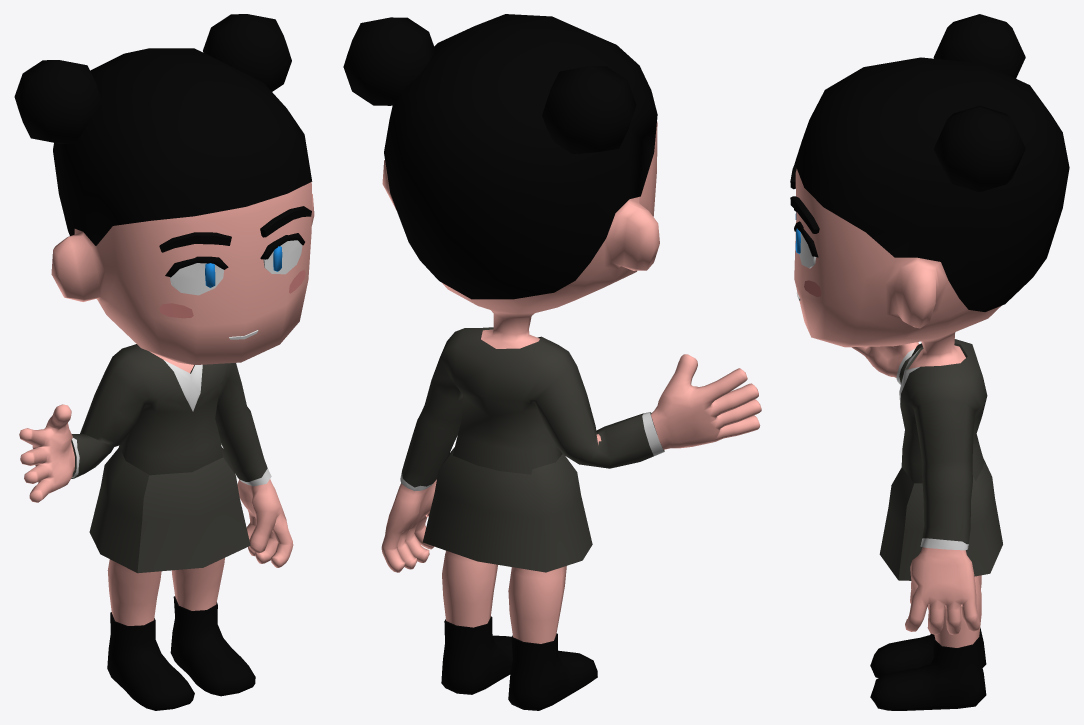
Rendered from Personaje_juzgado.fbx.
3 views of the same model, side by side, from view 1: azimuth 30°, elevation 25°; view 2: azimuth 150°, elevation 25°; view 3: azimuth 270°, elevation 25° (orthographic). The views are drawn at different scales.
Visible parts, largest first — view 1: hair4, body.013, shirt3.012, body.012, socks.012, eyesbase2.008, eyebrows1.012, cheeks; view 2: hair4, body.013, shirt3.012, body.012, socks.012; view 3: hair4, body.013, shirt3.012, socks.012, body.012, eyesbase2.008, eyebrows1.012.
Part boxes in pixels (x1=…): hair4: x1=14, y1=14, x2=312, y2=245; body.013: x1=19, y1=182, x2=314, y2=625; shirt3.012: x1=71, y1=344, x2=271, y2=486; body.012: x1=89, y1=446, x2=250, y2=573; socks.012: x1=107, y1=596, x2=255, y2=710; eyesbase2.008: x1=165, y1=233, x2=304, y2=295; eyebrows1.012: x1=159, y1=206, x2=311, y2=252; cheeks: x1=159, y1=269, x2=305, y2=318; hair4: x1=343, y1=14, x2=657, y2=299; body.013: x1=381, y1=121, x2=761, y2=643; shirt3.012: x1=400, y1=327, x2=664, y2=490; body.012: x1=422, y1=447, x2=592, y2=572; socks.012: x1=441, y1=616, x2=597, y2=710; hair4: x1=795, y1=14, x2=1069, y2=311; body.013: x1=794, y1=169, x2=1000, y2=647; shirt3.012: x1=896, y1=339, x2=987, y2=550; socks.012: x1=870, y1=628, x2=986, y2=710; body.012: x1=879, y1=459, x2=1002, y2=580; eyesbase2.008: x1=794, y1=209, x2=818, y2=268; eyebrows1.012: x1=790, y1=163, x2=819, y2=233.
Size of the model in its own units: 95.15 by 174 by 70.34.
